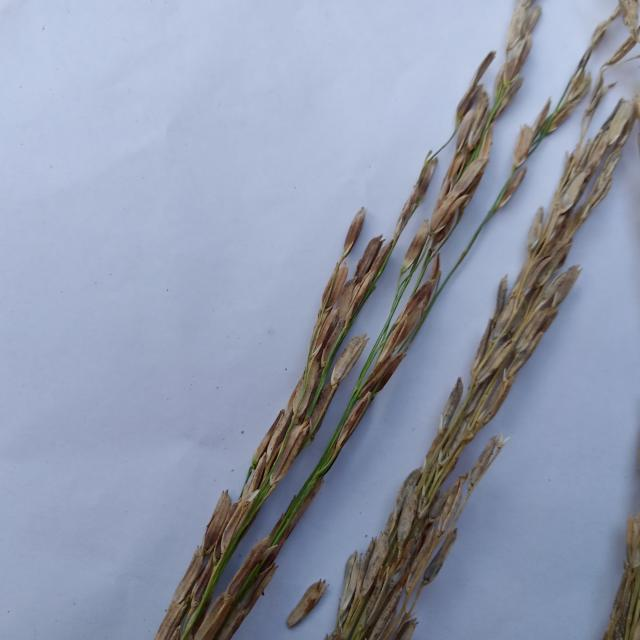Neck_Blast: (182, 1, 640, 640), (337, 90, 640, 639), (157, 120, 460, 640)
